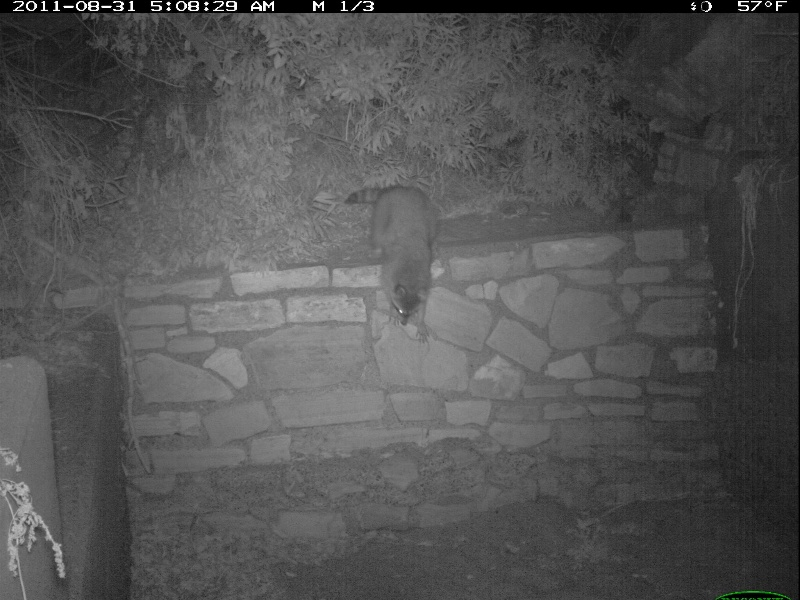raccoon: (346, 182, 440, 345)
